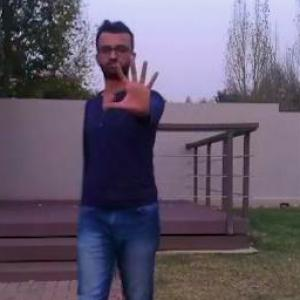follow_hand: (102, 48, 163, 114)
